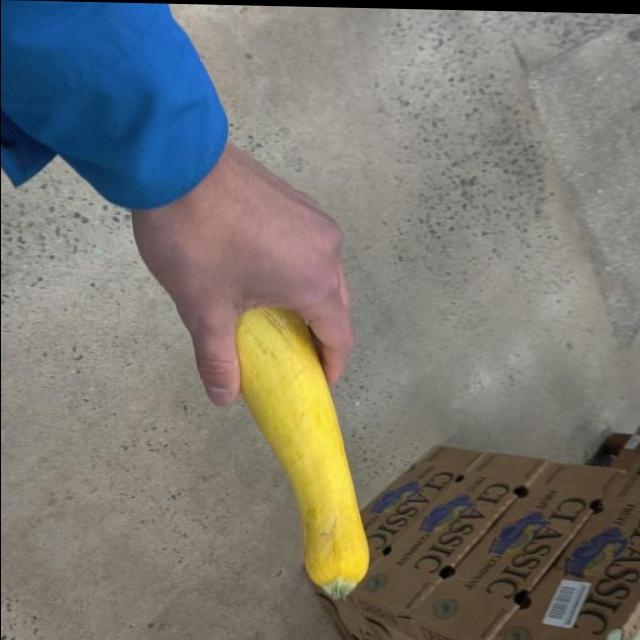Zucchini: (224, 298, 370, 601)
